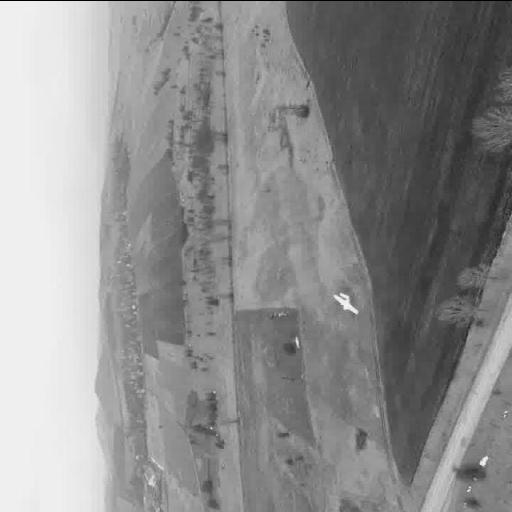uav: (329, 286, 365, 316)
